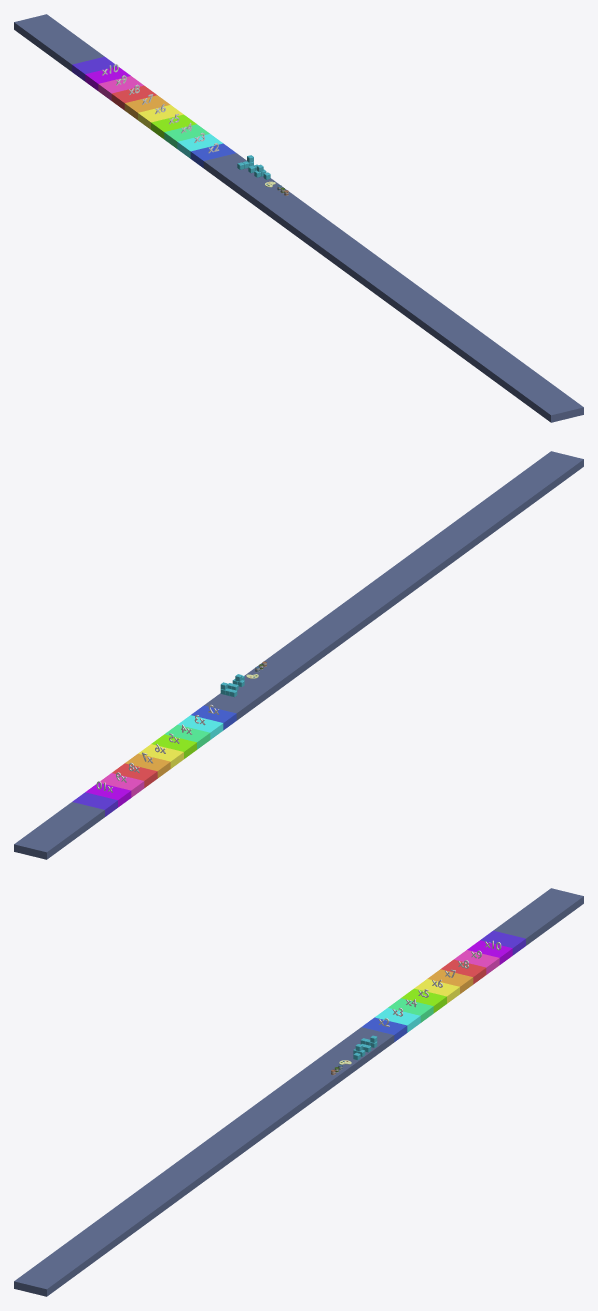
Rendered from path1 (2).fbx.
3 views of the same model, one above another, from view 1: azimuth 30°, elevation 25°; view 2: azimuth 150°, elevation 25°; view 3: azimuth 330°, elevation 25° (orthographic).
Parts seen in each view (by area): view 1: path; view 2: path; view 3: path.
Boxes of the visible parts, x1,y1,x2,y2 form: path: (14, 14, 583, 422); path: (14, 451, 583, 859); path: (14, 888, 583, 1296).
Bounding box in the file's own units: 3 × 1.53 × 85.02.
